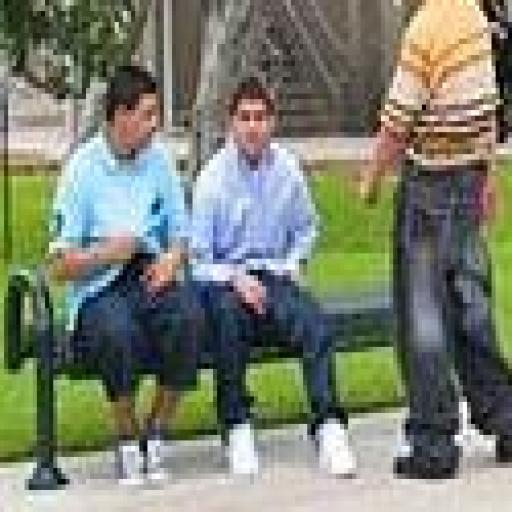person: (361, 0, 511, 478), (193, 78, 356, 473), (50, 67, 204, 484)
